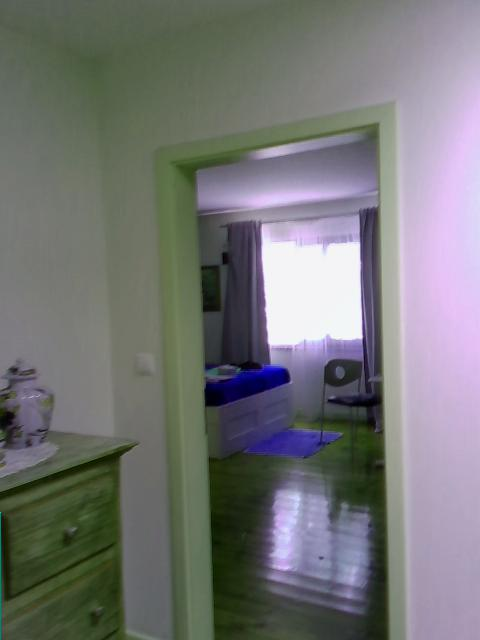open_door: (151, 98, 411, 638)
